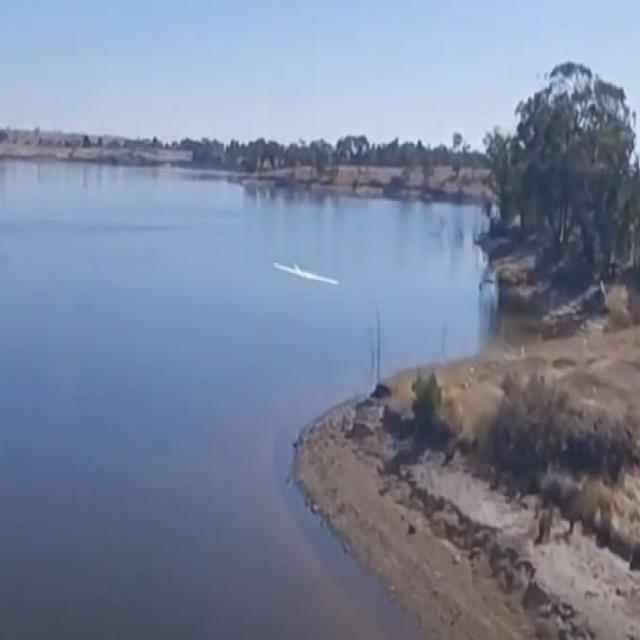iha: (303, 260, 308, 287)
